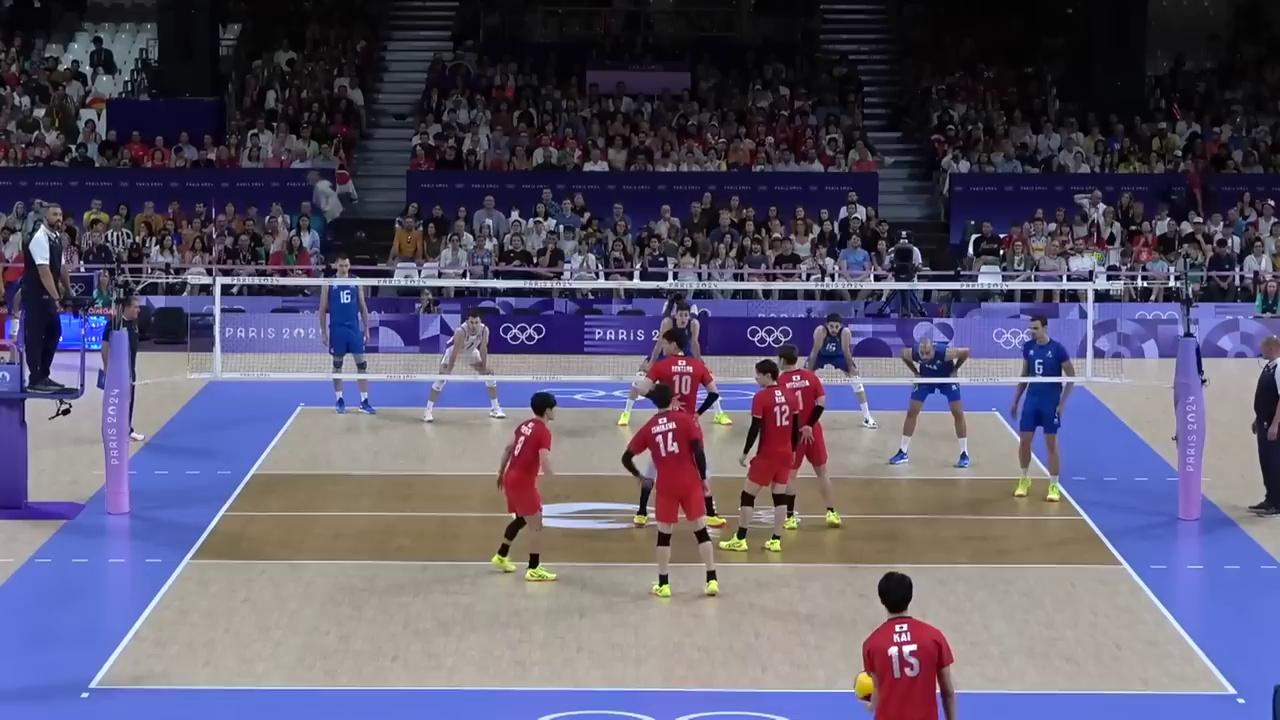ball: (852, 672, 875, 707)
